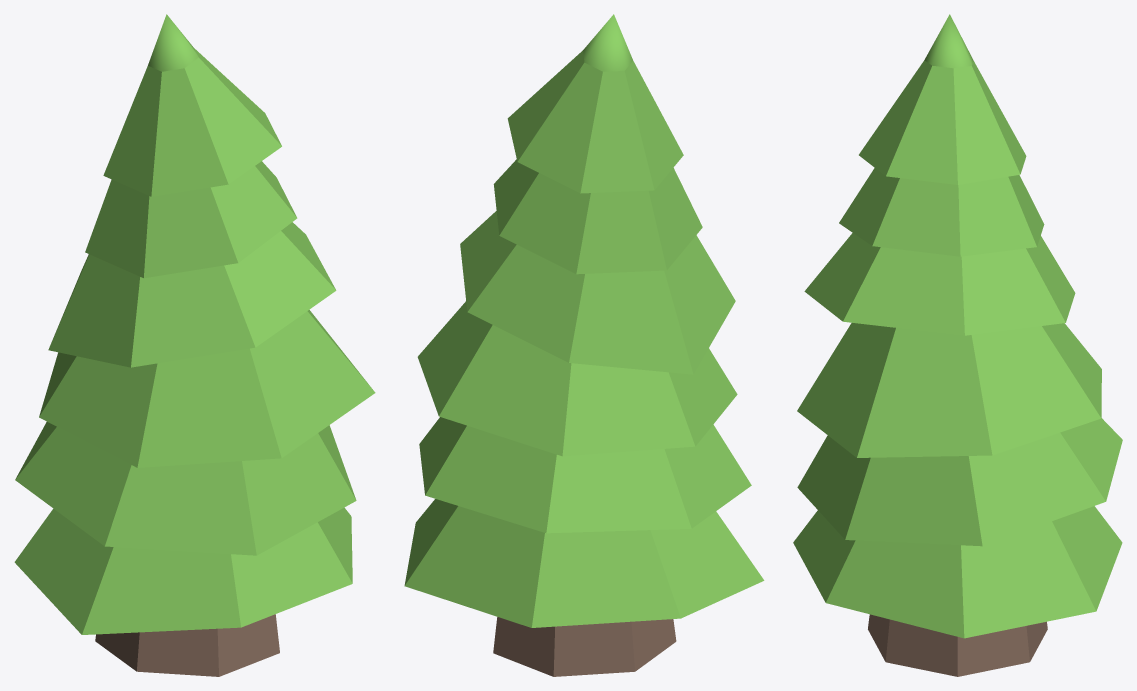
Rendered from tree_1.fbx.
The picture shows the model from 3 angles, left to right: view 1: azimuth 30°, elevation 25°; view 2: azimuth 150°, elevation 25°; view 3: azimuth 270°, elevation 25°; orthographic projection. The views are drawn at different scales.
Parts seen in each view (by area): view 1: pasted__pCylinder9; view 2: pasted__pCylinder9; view 3: pasted__pCylinder9.
Part boxes in pixels (<box>): pasted__pCylinder9: <box>14,14,375,676</box>; pasted__pCylinder9: <box>404,14,764,676</box>; pasted__pCylinder9: <box>793,14,1122,676</box>.
Size of the model in its own units: 3.24 by 6.32 by 3.09.
